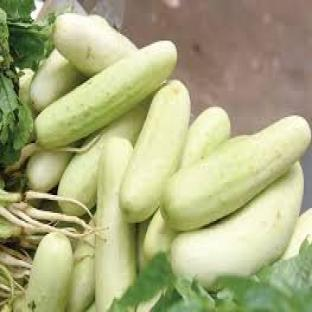Cucumber: (162, 116, 310, 230), (171, 165, 303, 289), (35, 41, 176, 147), (120, 82, 189, 222), (59, 103, 149, 209), (95, 139, 136, 311), (54, 13, 136, 76), (25, 233, 73, 311), (30, 49, 85, 112), (181, 108, 230, 167), (67, 234, 94, 311), (27, 152, 72, 191), (144, 210, 177, 259), (283, 208, 311, 258), (137, 220, 150, 271), (19, 69, 34, 110), (136, 293, 161, 311), (86, 303, 96, 311)
